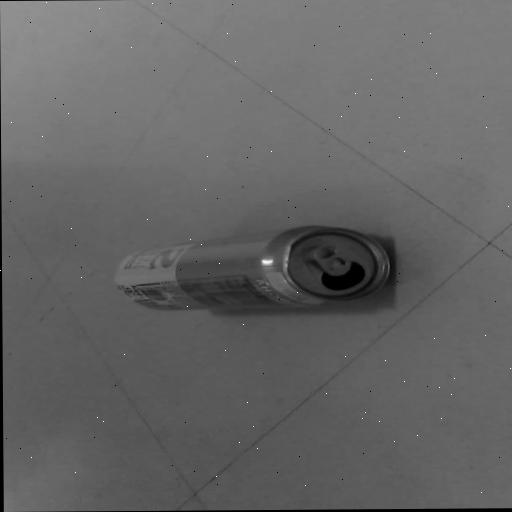canned: (98, 208, 405, 332)
